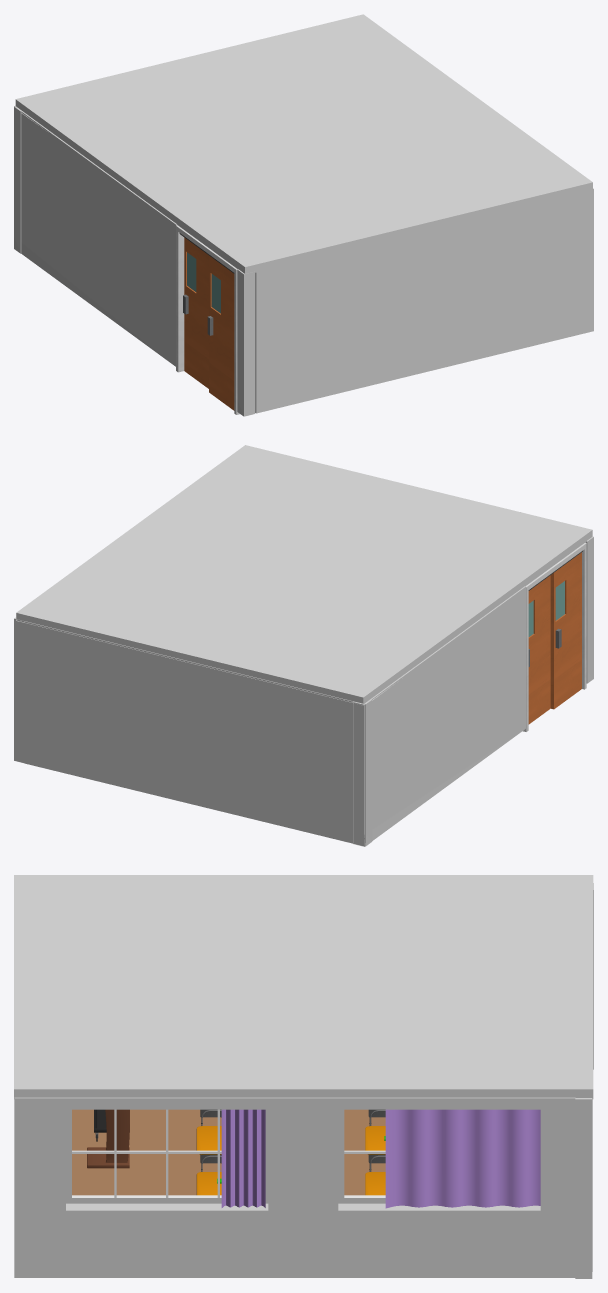
File: classroom_glb.glb
The picture shows the model from 3 angles, top to bottom: view 1: azimuth 30°, elevation 25°; view 2: azimuth 150°, elevation 25°; view 3: azimuth 270°, elevation 25°; orthographic projection. The views are drawn at different scales.
Visible parts, largest first — view 1: ceiling, demoscene_21, column.002, ClassRoomDoor_8.001, ClassRoomDoor_10.001, column.001, DoorClassroom_1, column.004; view 2: ceiling, column.003, column.002, ClassRoomDoor_8.001, ClassRoomDoor_10.001, DoorClassroom_1, column.005, column.001, column.004; view 3: ceiling, demoscene_21, demoscene_18, demoscene_19, column.005, demoscene_7, demoscene_12.
Part boxes in pixels (x1,y1,x2,y2): ceiling: (15,14,592,273); demoscene_21: (255,188,593,413); column.002: (14,105,177,366); ClassRoomDoor_8.001: (207,255,234,410); ClassRoomDoor_10.001: (183,237,208,388); column.001: (237,269,255,416); DoorClassroom_1: (176,225,239,414); column.004: (14,106,21,253); ceiling: (16,445,592,705); column.003: (24,621,354,843); column.002: (353,586,525,846); ClassRoomDoor_8.001: (550,552,581,709); ClassRoomDoor_10.001: (528,575,550,724); DoorClassroom_1: (523,542,586,731); column.005: (14,617,24,763); column.001: (585,536,593,683); column.004: (365,699,372,846); ceiling: (14,875,593,1099); demoscene_21: (14,1097,575,1277); demoscene_18: (385,1109,540,1208); demoscene_19: (221,1109,265,1207); column.005: (575,1098,592,1278); demoscene_7: (196,1109,385,1195); demoscene_12: (87,1109,129,1168).
Size of the model in its own units: 9.17 by 3.8 by 10.36.
13 materials, 12 textured.
